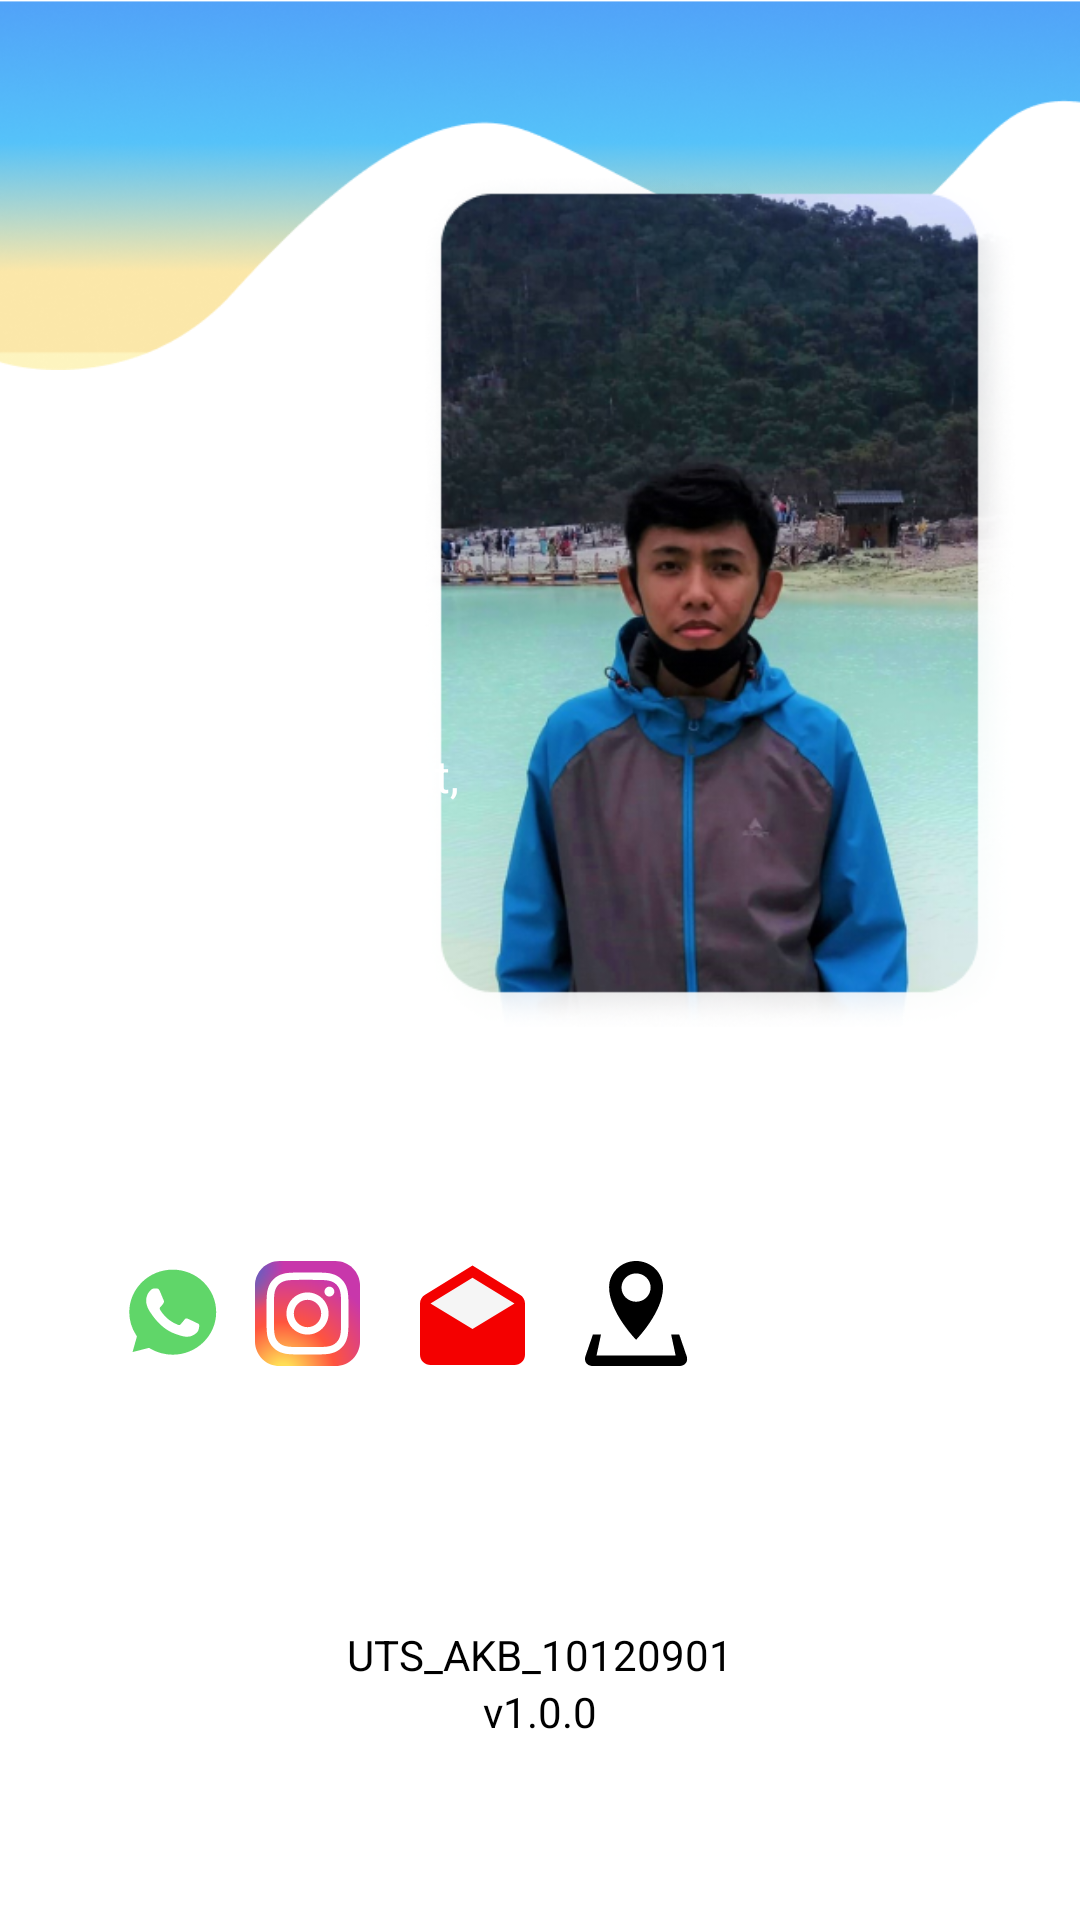

Icons on this 1080px×1920px Android screen, each with the point to tap as (x=x, y=y):
email: (x=472, y=1315)
location: (x=636, y=1313)
